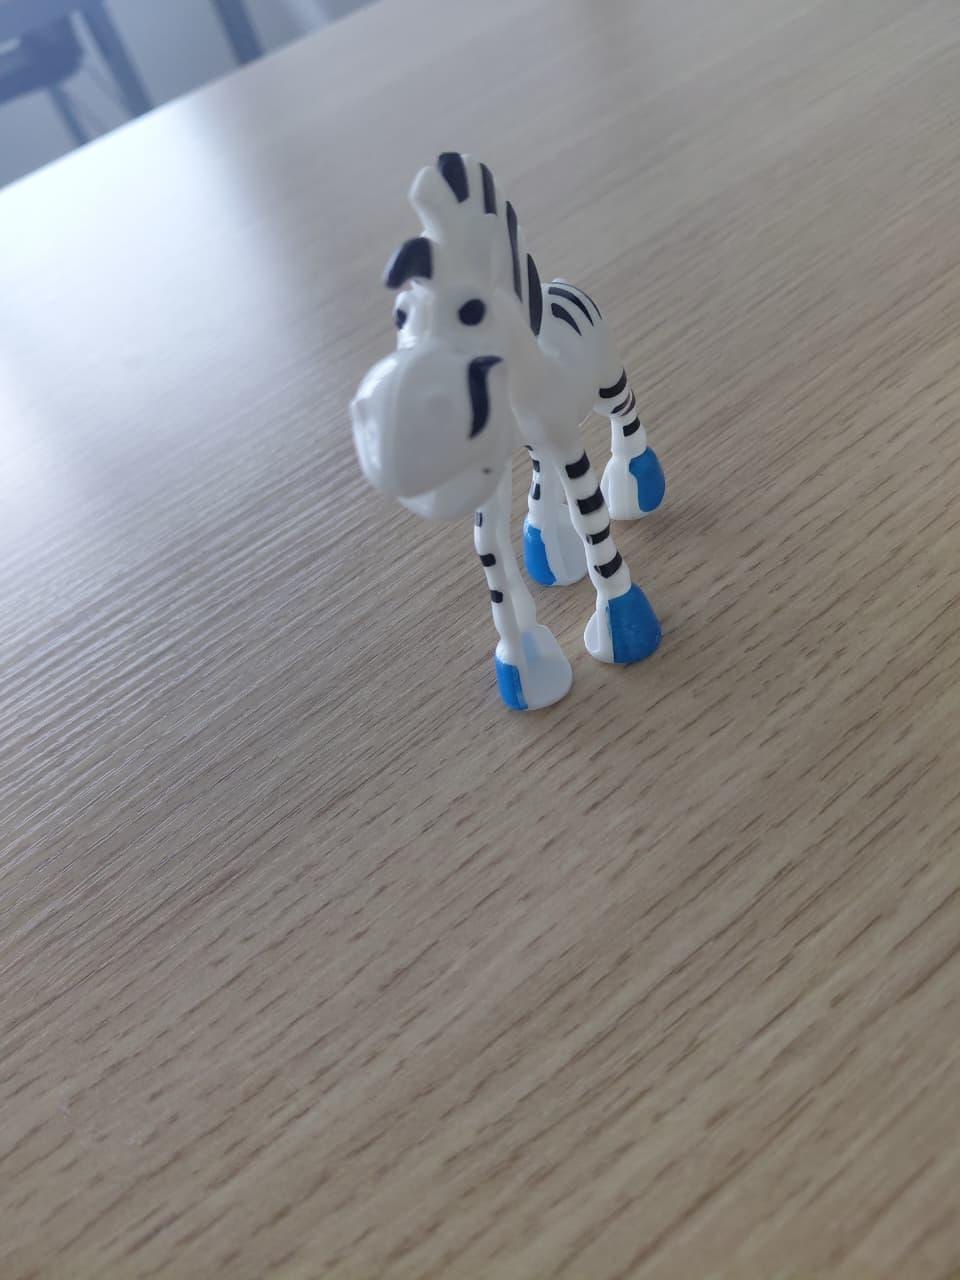zebra: (260, 130, 814, 761)
